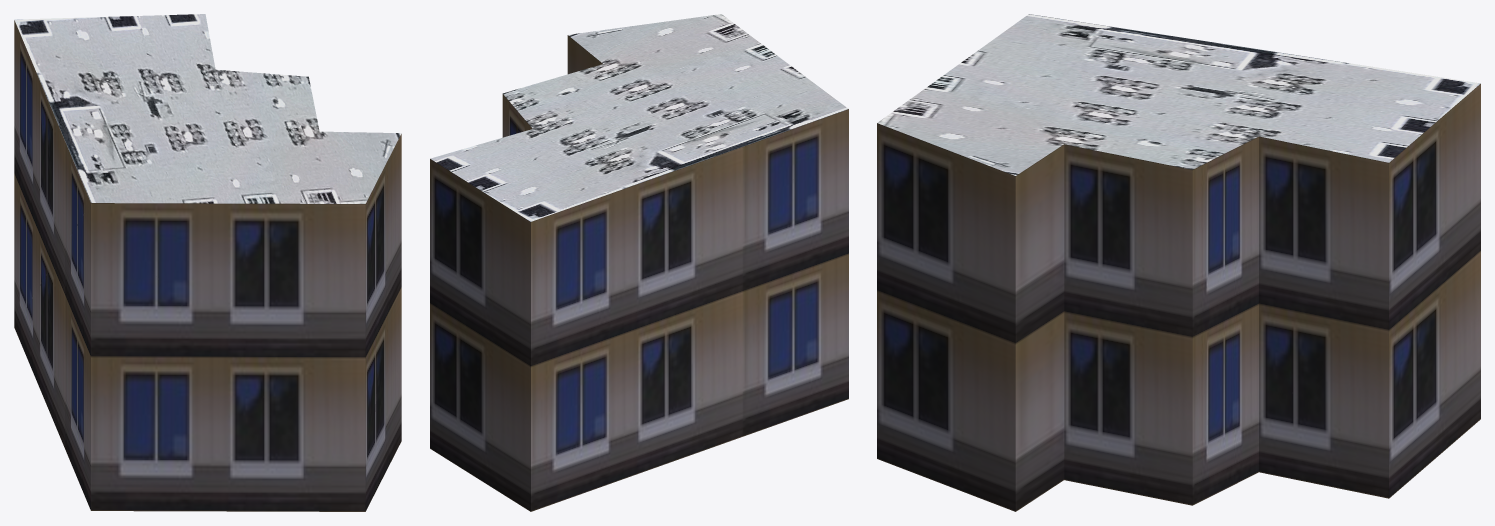
File: ResTex__4650.fbx
3 renders of one model, left to right at view 1: azimuth 30°, elevation 25°; view 2: azimuth 150°, elevation 25°; view 3: azimuth 270°, elevation 25°, orthographic. The views are drawn at different scales.
Visible parts, largest first — view 1: CityEngineMaterial_5_m, CityEngineMaterial_2_m; view 2: CityEngineMaterial_5_m, CityEngineMaterial_2_m; view 3: CityEngineMaterial_5_m, CityEngineMaterial_2_m.
Part boxes in pixels (box(x1,y1,x2,y2)): CityEngineMaterial_5_m: box(14, 20, 401, 511); CityEngineMaterial_2_m: box(14, 14, 401, 203); CityEngineMaterial_5_m: box(430, 35, 848, 511); CityEngineMaterial_2_m: box(430, 14, 848, 221); CityEngineMaterial_5_m: box(877, 84, 1480, 511); CityEngineMaterial_2_m: box(877, 14, 1480, 175).
Bounding box in the file's own units: 6.21 × 6 × 9.78.
Materials: 2 (2 with a texture image).
